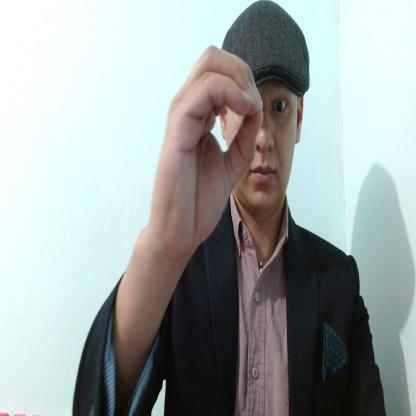O: (151, 43, 265, 246)
